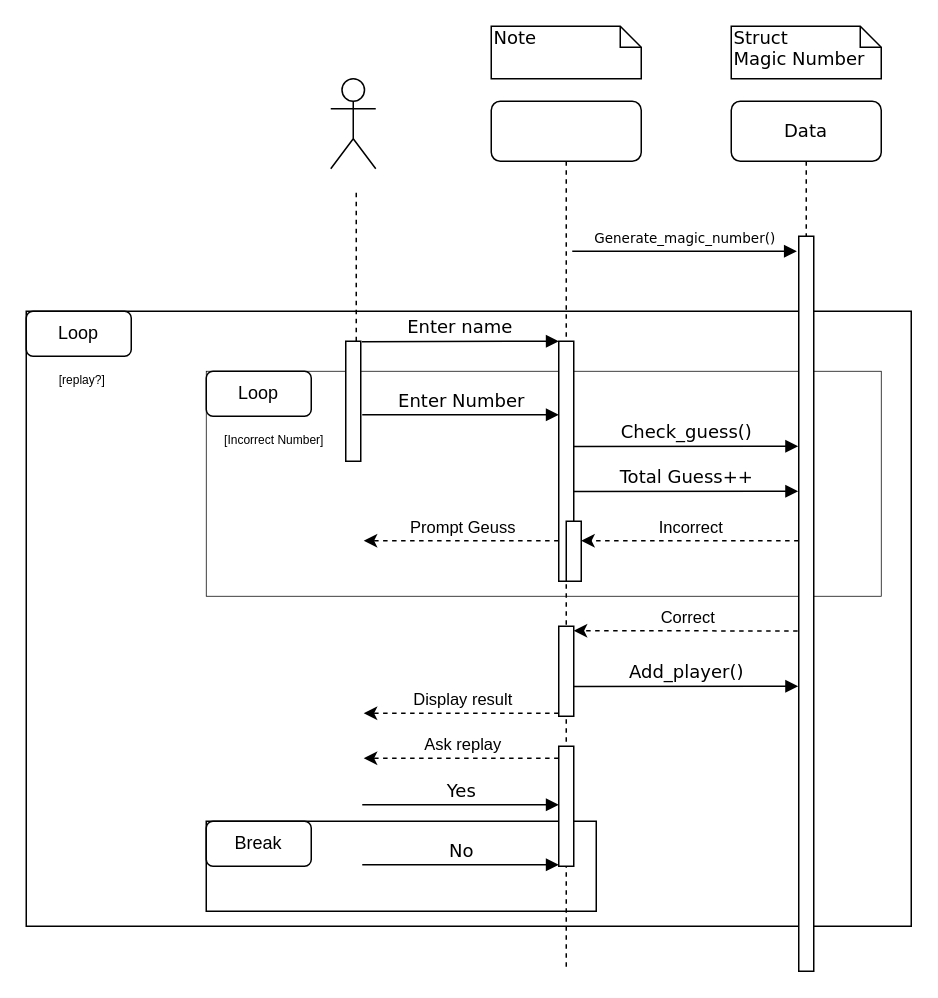
The diagram is 938 pixels wide and 998 high, and some of its shapes have lost their labels. The centre of each missing label's shape, as x and y in pixels:
Player: [352,123]
Program: [565,535]
